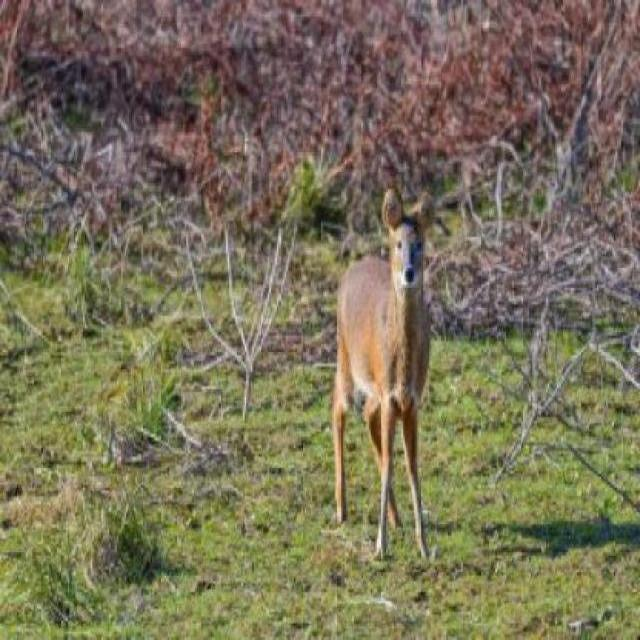deer: (314, 164, 462, 584)
